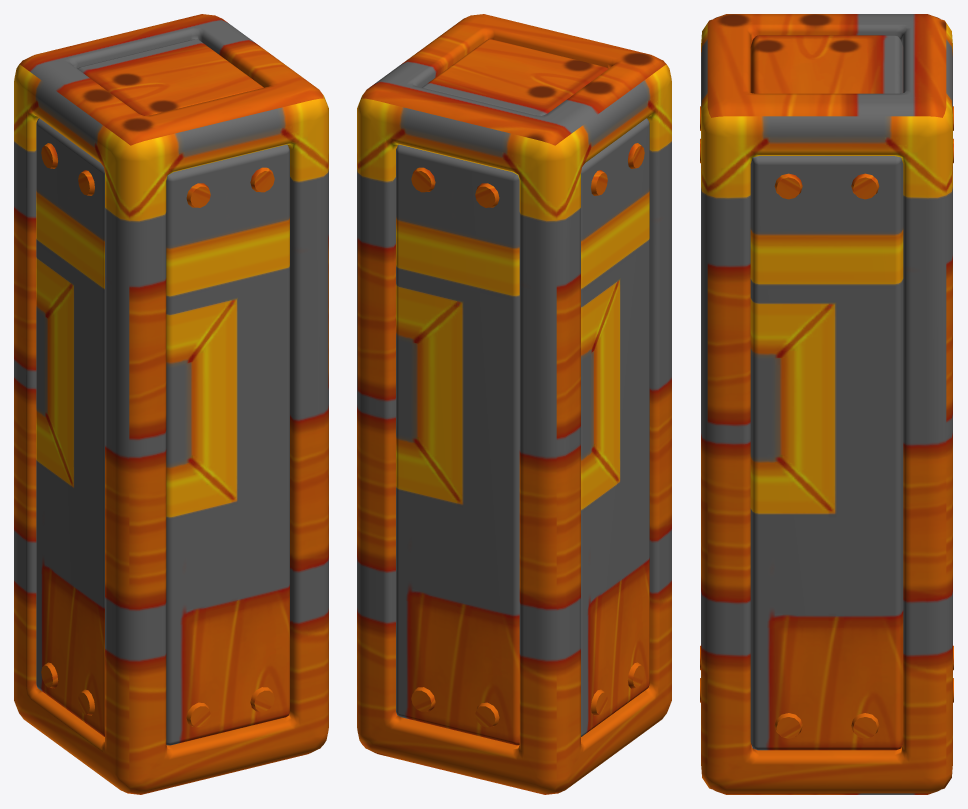
3 views of the same model, side by side, from view 1: azimuth 30°, elevation 25°; view 2: azimuth 150°, elevation 25°; view 3: azimuth 270°, elevation 25° (orthographic). The views are drawn at different scales.
Visible parts, largest first — view 1: 4064; view 2: 4064; view 3: 4064.
Part boxes in pixels (<box>): 4064: <box>14,14,328,794</box>; 4064: <box>357,14,671,794</box>; 4064: <box>700,14,953,794</box>.
Size of the model in its own units: 1 by 3 by 1.
1 material, 1 textured.
